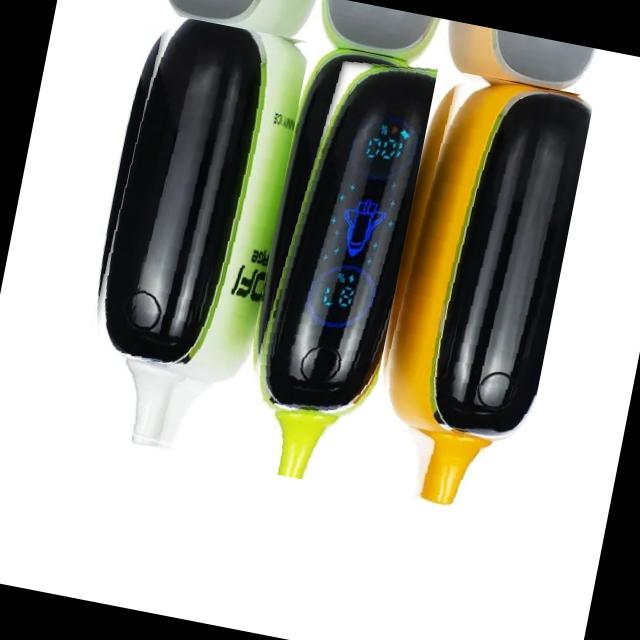Hazard: (66, 9, 310, 463), (354, 66, 594, 518), (225, 39, 438, 488)
